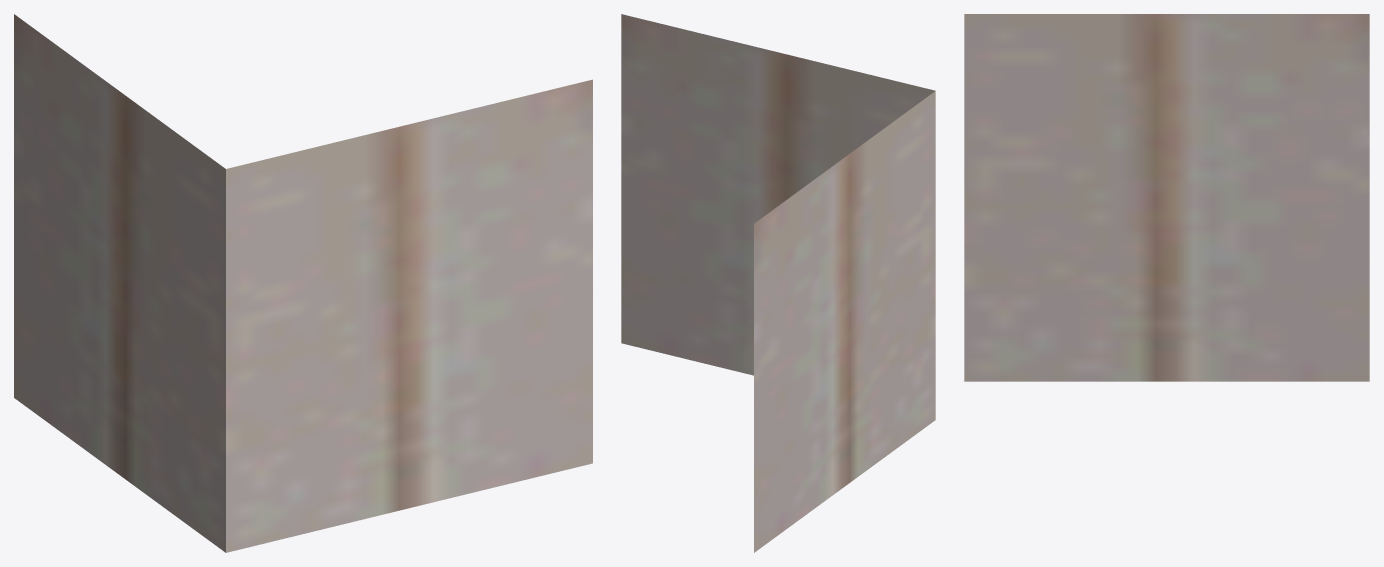
Rendered from Urban_BlockFootWallCorner_Model.fbx.
3 renders of one model, left to right at view 1: azimuth 30°, elevation 25°; view 2: azimuth 150°, elevation 25°; view 3: azimuth 270°, elevation 25°, orthographic. The views are drawn at different scales.
Visible parts, largest first — view 1: Urban_BlockFootWallCorner_Mesh; view 2: Urban_BlockFootWallCorner_Mesh; view 3: Urban_BlockFootWallCorner_Mesh.
Boxes of the visible parts, x1=… form: Urban_BlockFootWallCorner_Mesh: x1=14, y1=14, x2=592, y2=552; Urban_BlockFootWallCorner_Mesh: x1=621, y1=14, x2=935, y2=552; Urban_BlockFootWallCorner_Mesh: x1=964, y1=14, x2=1369, y2=381.
Size of the model in its own units: 0.7 by 0.7 by 0.7.
